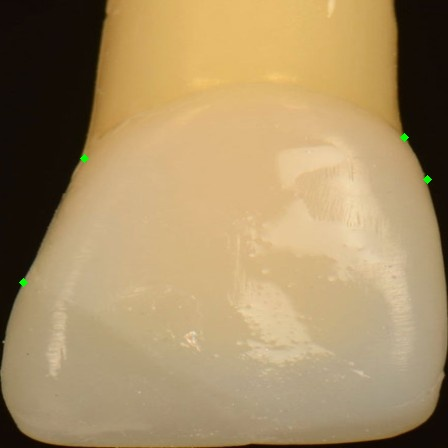coin_1: (84, 158, 104, 178)
coin_2: (23, 282, 43, 302)
coin_3: (404, 137, 424, 157)
coin_4: (427, 179, 447, 199)
